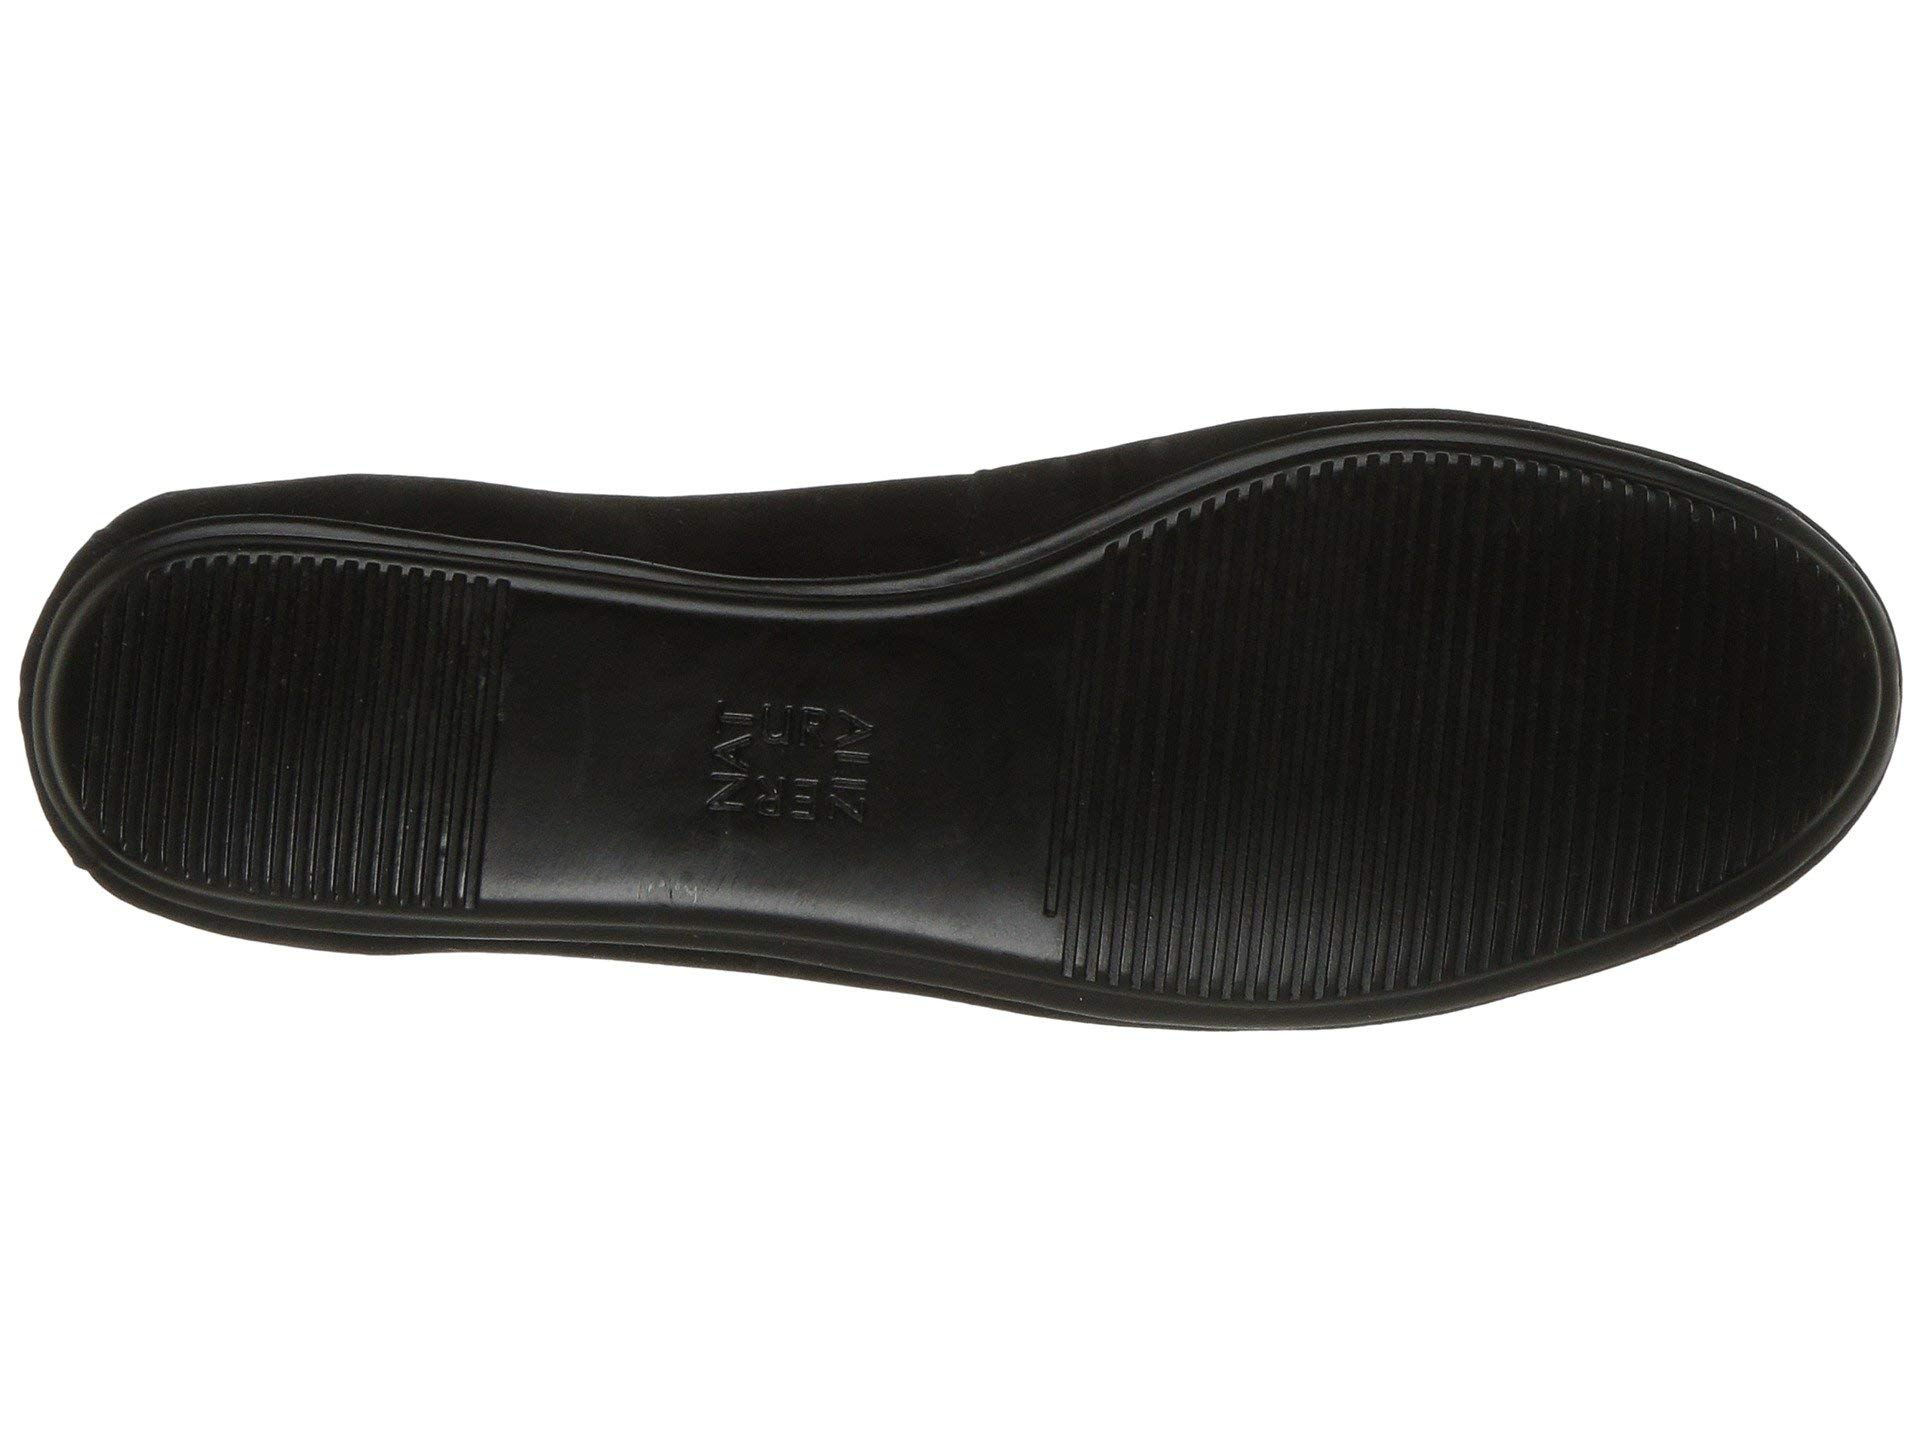line: (1105, 535, 1763, 895), (124, 578, 441, 858)
text: (652, 658, 906, 850)
